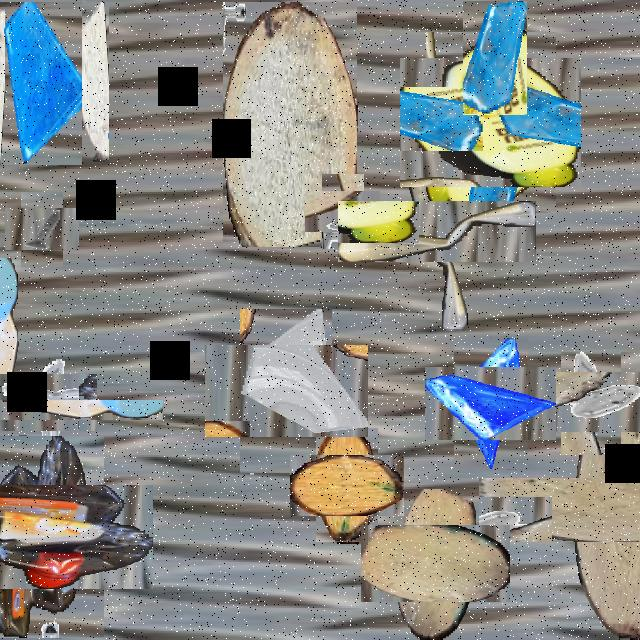glass: (222, 327, 350, 455), (0, 2, 82, 165), (440, 352, 542, 455), (463, 1, 527, 116)
metal: (550, 360, 632, 444), (5, 362, 86, 442), (314, 182, 372, 241), (13, 200, 71, 259)
plastic: (413, 45, 569, 200), (0, 460, 128, 613), (372, 166, 502, 296), (0, 329, 91, 492)
wood: (223, 2, 357, 247), (527, 429, 640, 590), (379, 507, 493, 620), (303, 442, 391, 530), (77, 2, 109, 162)
